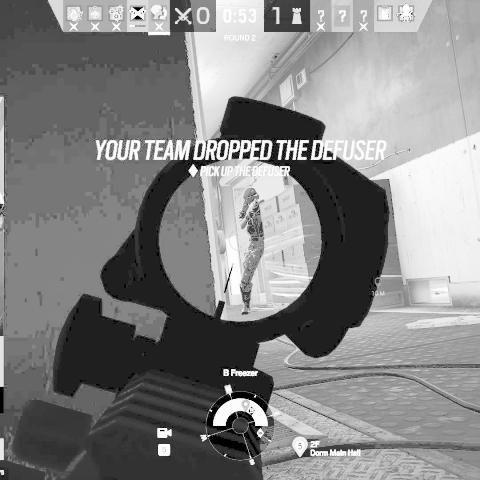Character: (238, 185, 266, 316)
Head: (243, 187, 260, 205)
